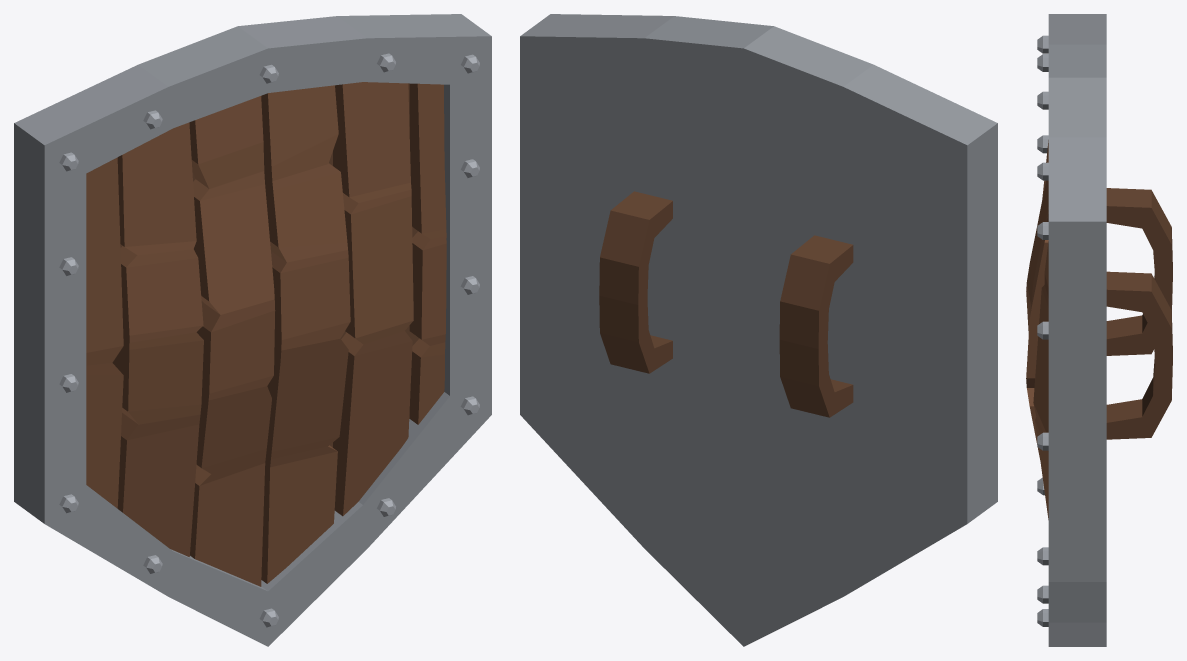
File: Shield_Heater_2.gltf
3 renders of one model, left to right at view 1: azimuth 30°, elevation 25°; view 2: azimuth 150°, elevation 25°; view 3: azimuth 270°, elevation 25°, orthographic. The views are drawn at different scales.
Parts seen in each view (by area): view 1: Shield_Heater_2; view 2: Shield_Heater_2; view 3: Shield_Heater_2.
Part boxes in pixels (x1,y1,x2,y2): Shield_Heater_2: (14, 14, 491, 646); Shield_Heater_2: (520, 14, 997, 646); Shield_Heater_2: (1026, 14, 1172, 646).
Size of the model in its own units: 2.01 by 2.56 by 0.5987.
